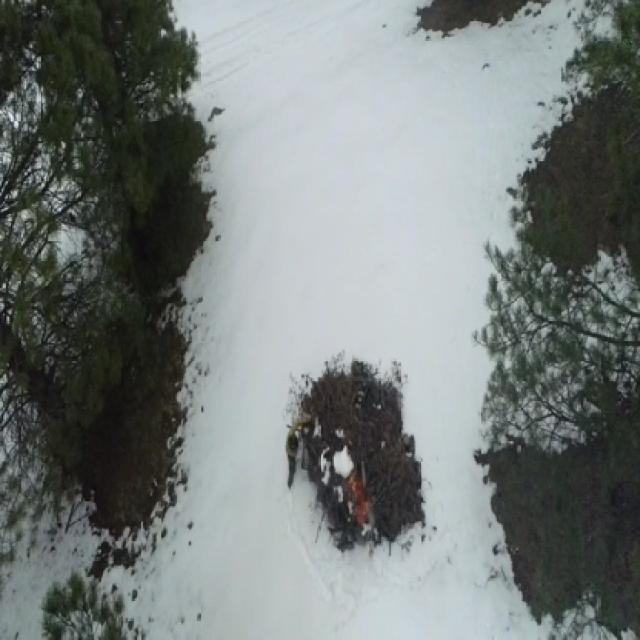Fire: (349, 476, 372, 520)
